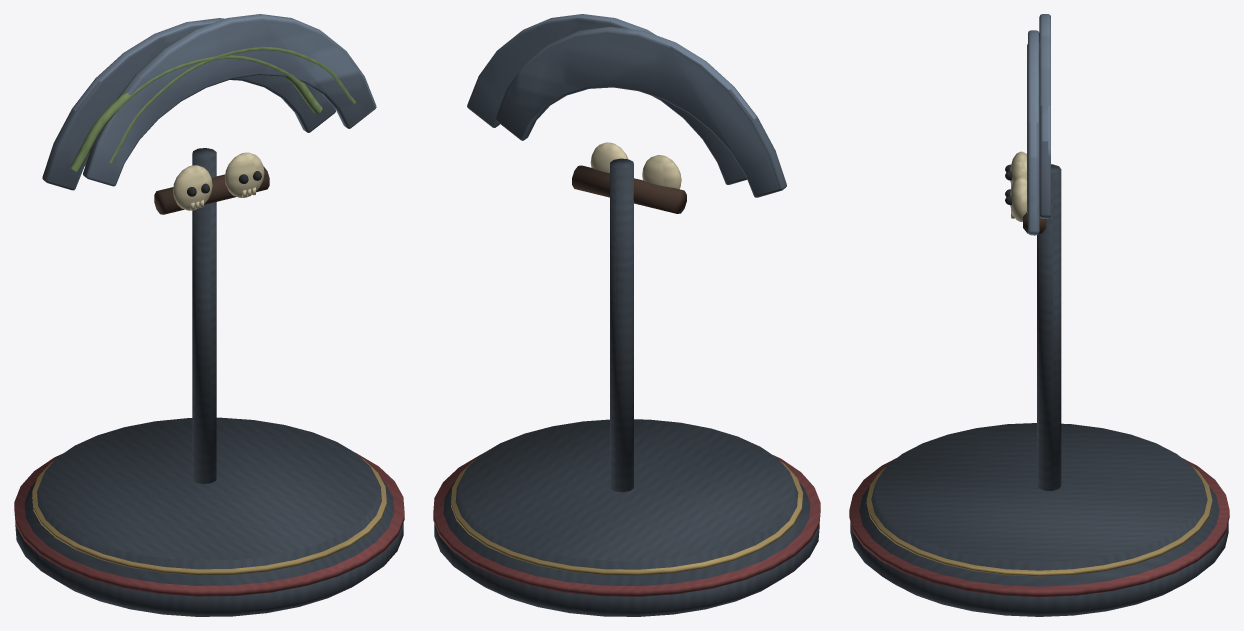
File: warglaives.glb
3 views of the same model, side by side, from view 1: azimuth 30°, elevation 25°; view 2: azimuth 150°, elevation 25°; view 3: azimuth 270°, elevation 25° (orthographic). The views are drawn at different scales.
Parts seen in each view (by area): view 1: CharacterMesh; view 2: CharacterMesh; view 3: CharacterMesh.
Part boxes in pixels (bbox=[...]): CharacterMesh: bbox=[14, 14, 404, 616]; CharacterMesh: bbox=[433, 14, 820, 616]; CharacterMesh: bbox=[849, 14, 1229, 616].
Bounding box in the file's own units: 0.784 × 1.15 × 0.784.
8 materials, 8 textured.
